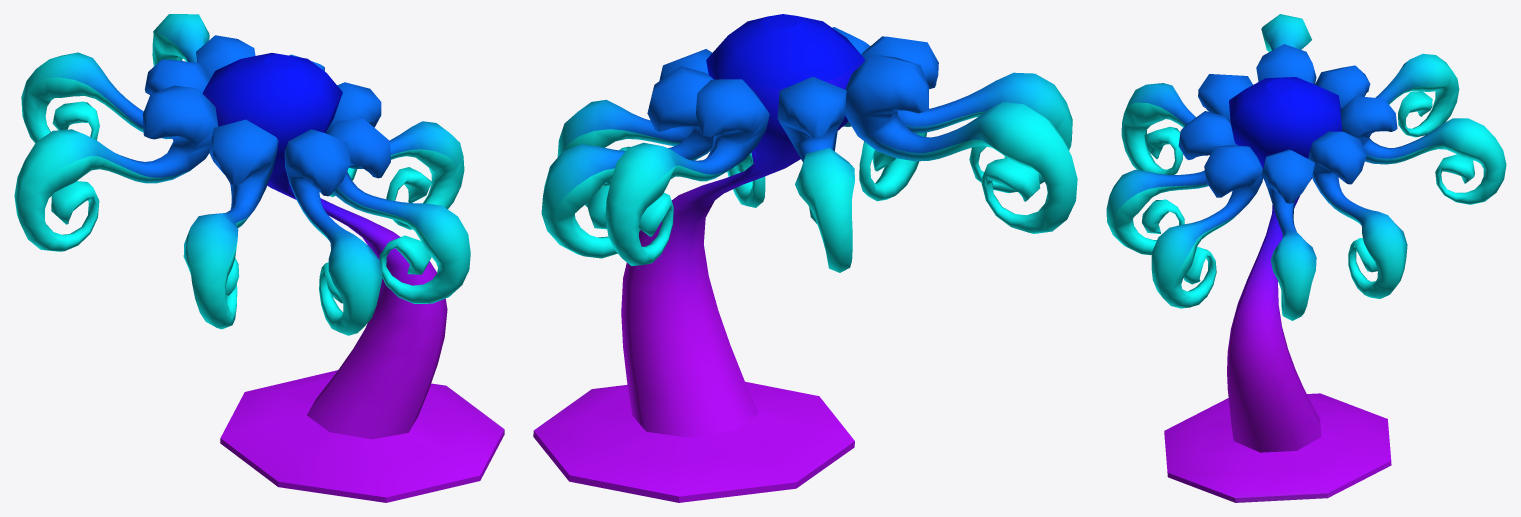
The model's file is Plant_1.fbx.
3 renders of one model, left to right at view 1: azimuth 30°, elevation 25°; view 2: azimuth 150°, elevation 25°; view 3: azimuth 270°, elevation 25°, orthographic. The views are drawn at different scales.
Parts seen in each view (by area): view 1: AlienFlower; view 2: AlienFlower; view 3: AlienFlower.
Boxes of the visible parts, box(x1,y1,x2,y2) form: AlienFlower: box(14, 14, 504, 502); AlienFlower: box(533, 14, 1077, 502); AlienFlower: box(1106, 14, 1506, 502).
Bounding box in the file's own units: 24.55 × 20.65 × 22.03.
Materials: 1 (1 with a texture image).
